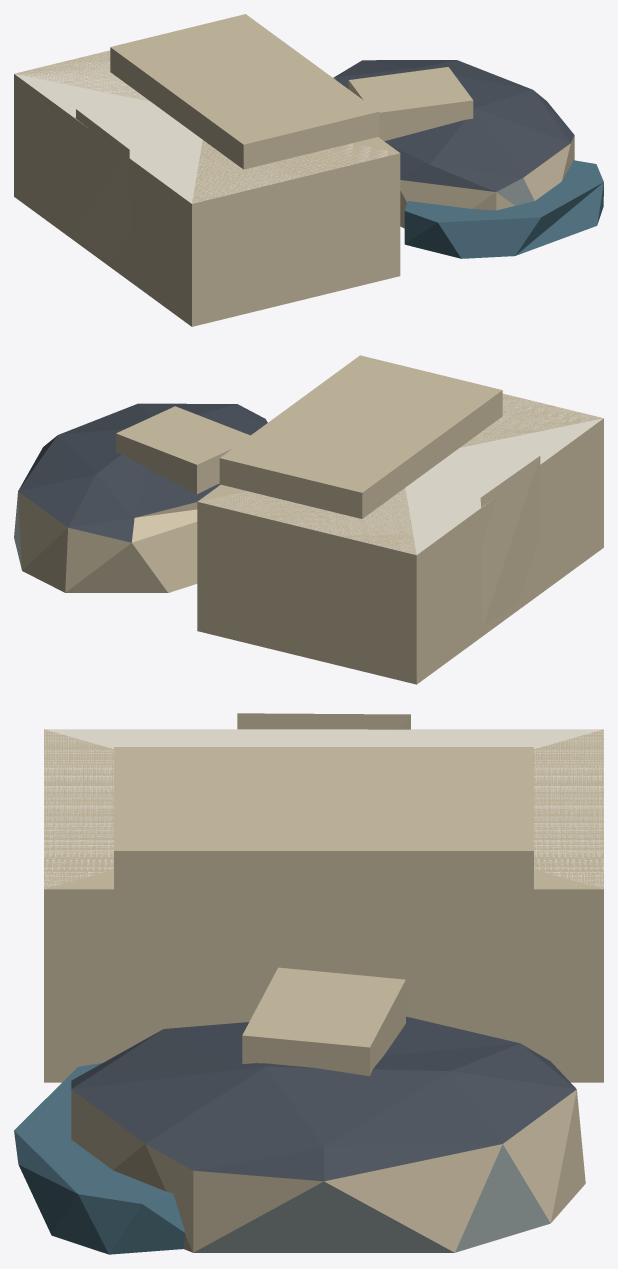
Rendered from van-gogh-museum.lod2.glb.
The picture shows the model from 3 angles, top to bottom: view 1: azimuth 30°, elevation 25°; view 2: azimuth 150°, elevation 25°; view 3: azimuth 270°, elevation 25°; orthographic projection. The views are drawn at different scales.
Visible parts, largest first — view 1: lod2; view 2: lod2; view 3: lod2.
Part boxes in pixels (x1,y1,x2,y2): lod2: (14,14,603,326); lod2: (14,355,603,684); lod2: (14,713,603,1254).
Size of the model in its own units: 57.96 by 18.4 by 42.3.
